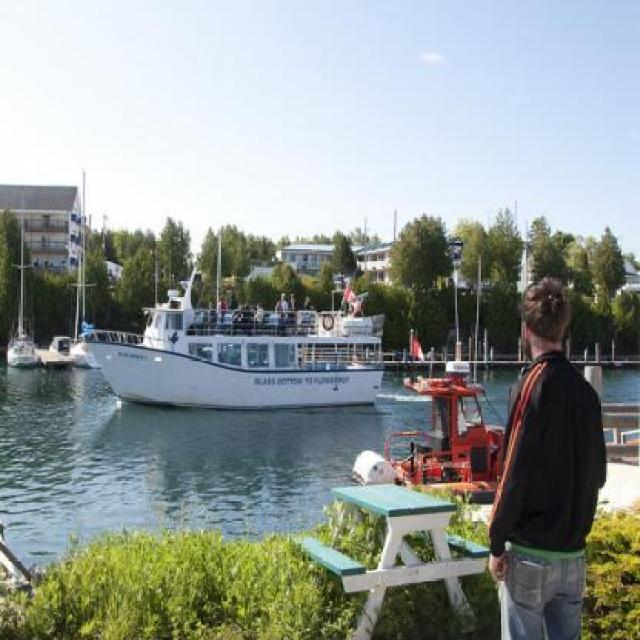ship: (84, 282, 382, 402), (350, 356, 508, 502), (5, 189, 37, 368), (68, 325, 112, 367)
